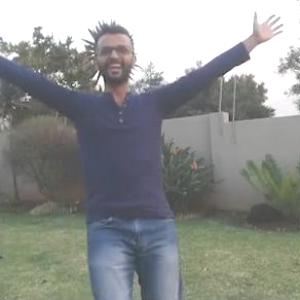takeoff: (1, 24, 265, 299)
